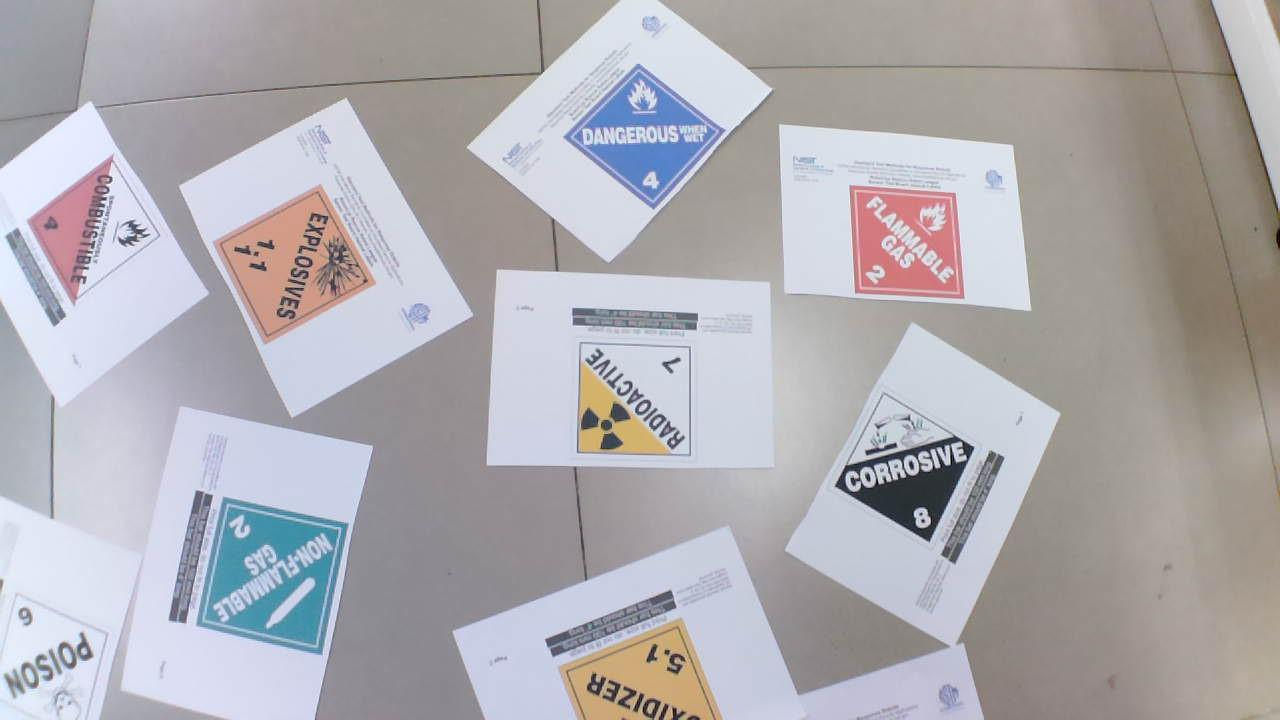corrosive: (828, 391, 978, 543)
dangerous-when-wet: (560, 63, 725, 205)
explosive: (205, 188, 385, 344)
flammable: (847, 181, 971, 299)
non-flammable-gas: (185, 495, 367, 658)
oxidizer: (555, 621, 719, 720)
poison: (1, 593, 117, 720)
radioactive: (575, 333, 699, 462)
spontaneously-combustible: (28, 155, 162, 307)
